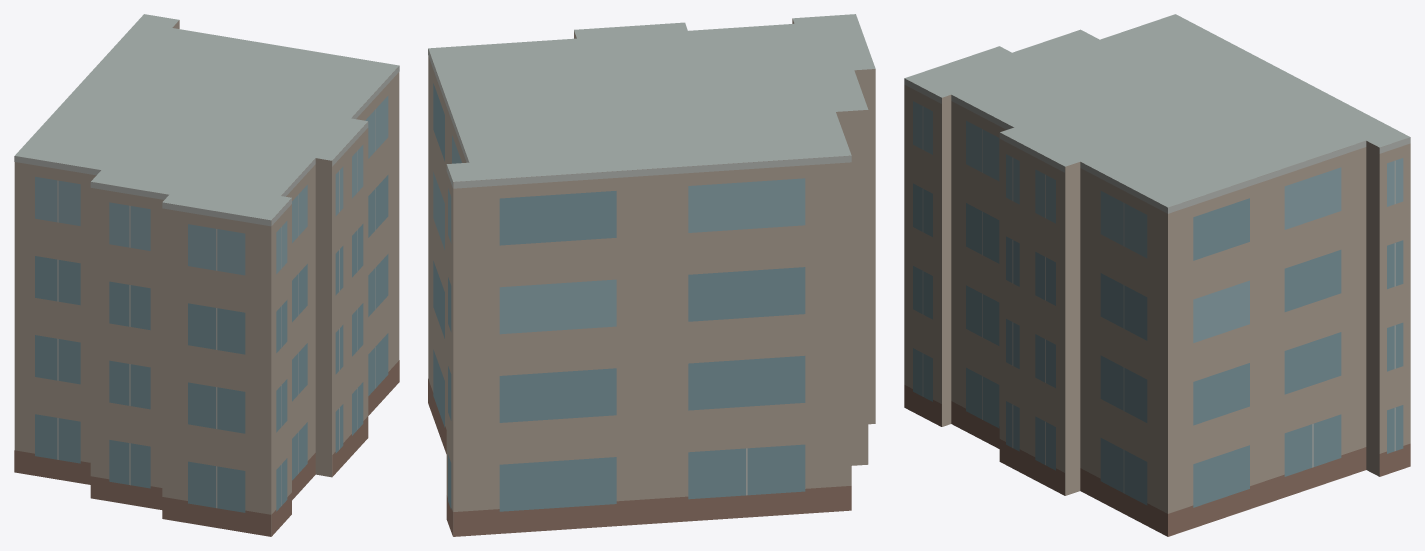
File: survey-upis-32660638.glb
3 views of the same model, side by side, from view 1: azimuth 30°, elevation 25°; view 2: azimuth 150°, elevation 25°; view 3: azimuth 270°, elevation 25° (orthographic). The views are drawn at different scales.
Visible parts, largest first — view 1: survey-upis-32660638.tmp; view 2: survey-upis-32660638.tmp; view 3: survey-upis-32660638.tmp.
Boxes of the visible parts, bbox=[...] form: survey-upis-32660638.tmp: bbox=[14, 14, 399, 536]; survey-upis-32660638.tmp: bbox=[428, 14, 875, 536]; survey-upis-32660638.tmp: bbox=[904, 14, 1410, 536].
Size of the model in its own units: 16.08 by 12.75 by 17.77.
